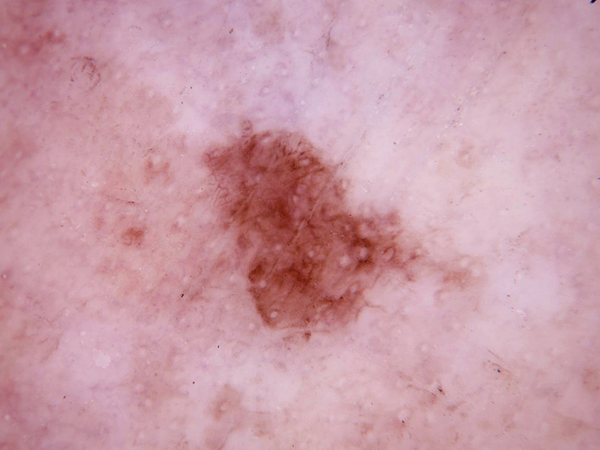Detected Lesion: (194, 117, 430, 346)
